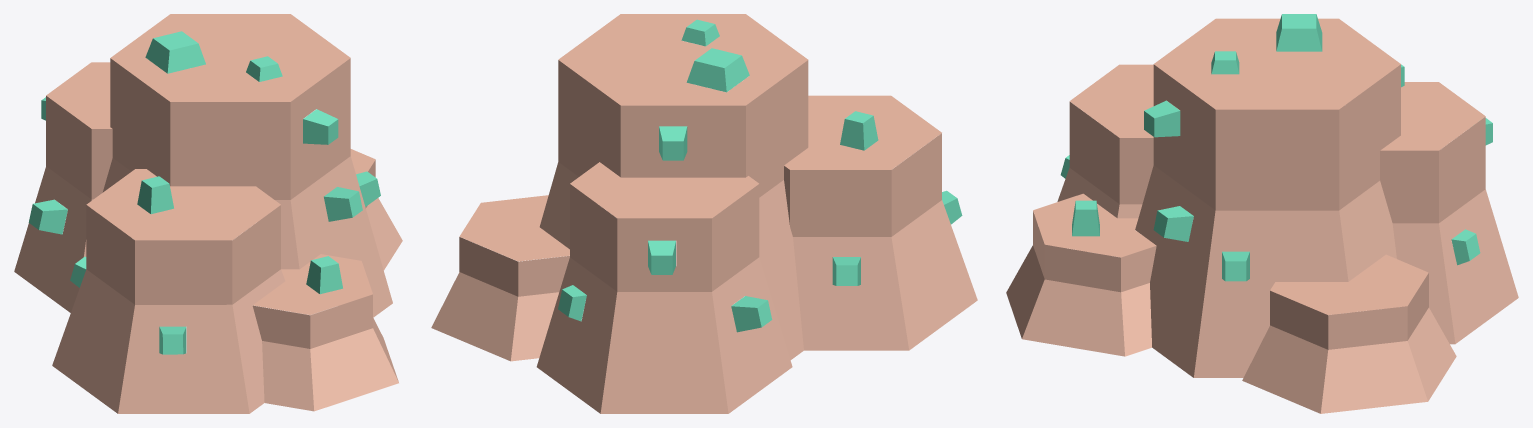
Rendered from rock_crystalsLargeA.glb.
3 renders of one model, left to right at view 1: azimuth 30°, elevation 25°; view 2: azimuth 150°, elevation 25°; view 3: azimuth 270°, elevation 25°, orthographic. The views are drawn at different scales.
Visible parts, largest first — view 1: rock_crystalsLargeA; view 2: rock_crystalsLargeA; view 3: rock_crystalsLargeA.
Boxes of the visible parts, x1,y1,x2,y2 form: rock_crystalsLargeA: (14,14,402,413); rock_crystalsLargeA: (431,14,977,413); rock_crystalsLargeA: (1006,14,1518,413).
Size of the model in its own units: 2.5 by 1.62 by 2.76.
